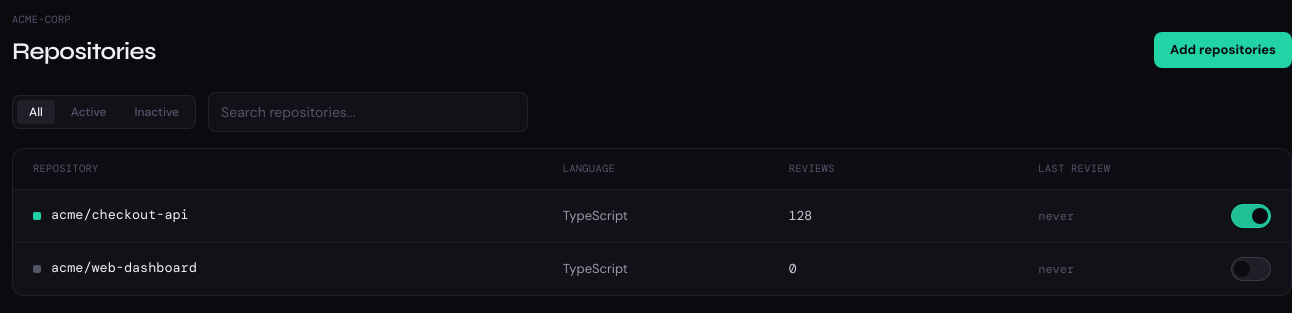
Test: ReposList › filters by search input
Expected: the text "acme/checkout-api" is shown, 51,205 -> 189,226
Type "web-dashboard" into the field labelled "Search repositories" at (368, 112), box 208,92 -> 528,132
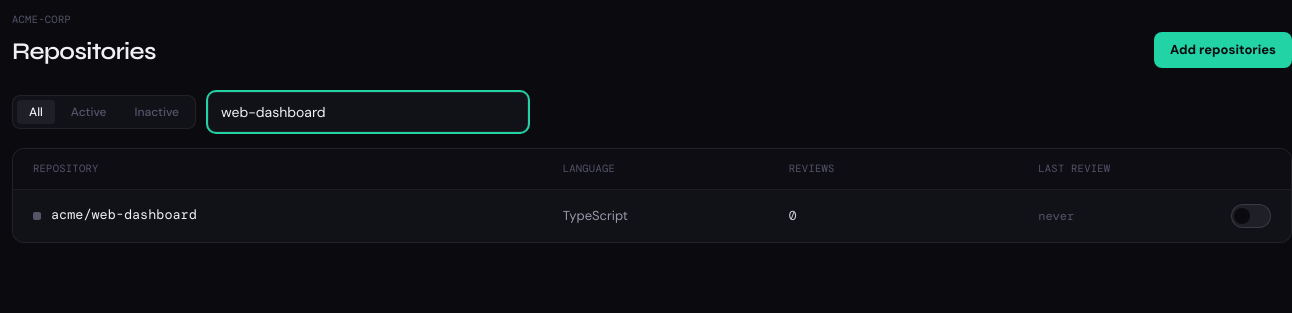
Expected: the text "acme/web-dashboard" is shown, 51,205 -> 197,226
Result: the text "acme/checkout-api" is gone
